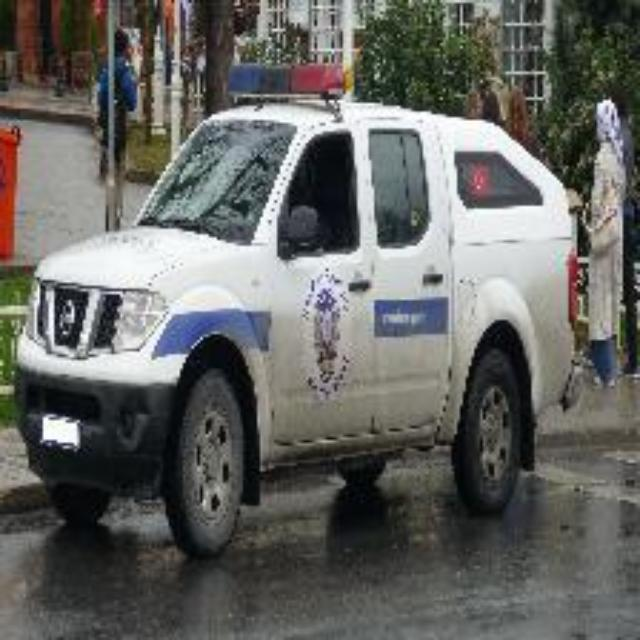emergency: (12, 66, 578, 554)
